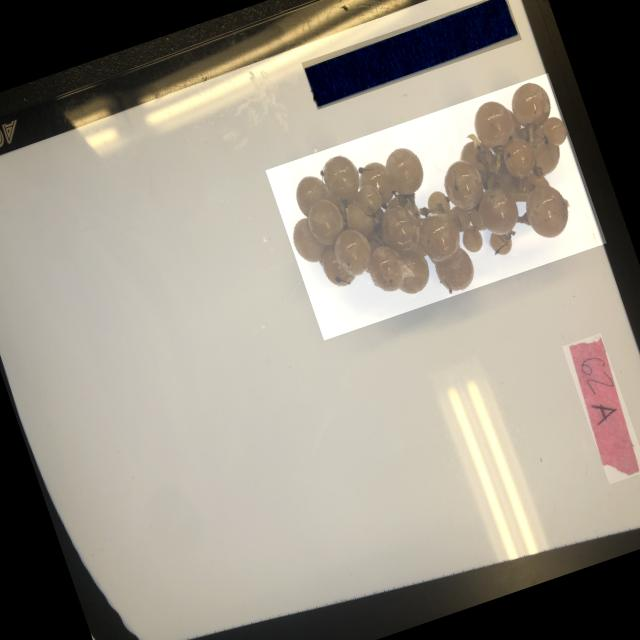grape_cluster: (264, 72, 606, 340)
index: (561, 333, 640, 484)
measure_label: (300, 0, 521, 110)
